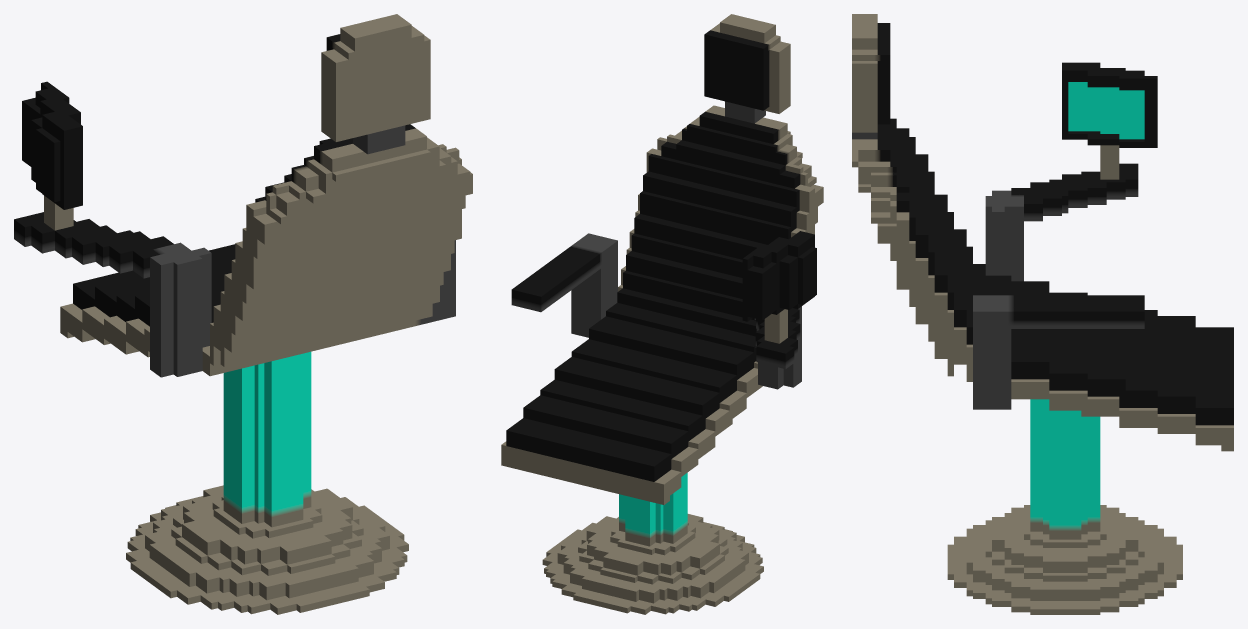
Rendered from Lab-5-Chair.fbx.
3 views of the same model, side by side, from view 1: azimuth 30°, elevation 25°; view 2: azimuth 150°, elevation 25°; view 3: azimuth 270°, elevation 25° (orthographic). The views are drawn at different scales.
Parts seen in each view (by area): view 1: Chair; view 2: Chair; view 3: Chair.
Part boxes in pixels (x1,y1,x2,y2): Chair: (14, 14, 472, 614); Chair: (501, 14, 823, 614); Chair: (852, 14, 1233, 614).
Bounding box in the file's own units: 55 × 93 × 60.
